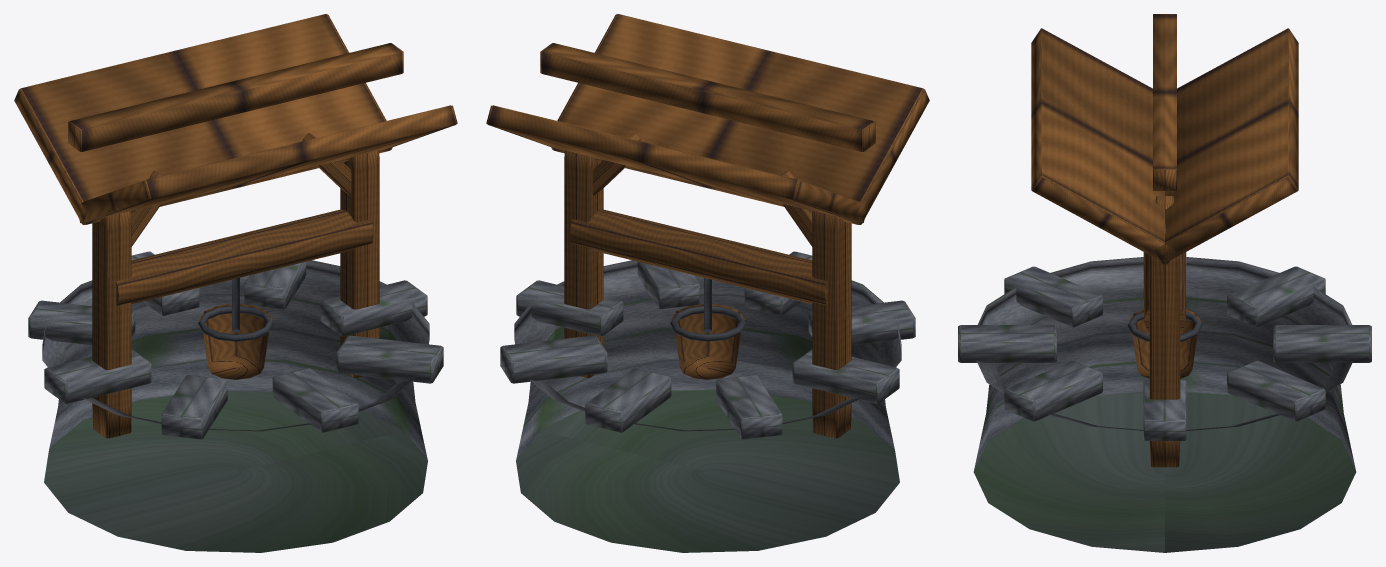
The model's file is town_well.glb.
3 views of the same model, side by side, from view 1: azimuth 30°, elevation 25°; view 2: azimuth 150°, elevation 25°; view 3: azimuth 270°, elevation 25° (orthographic).
Visible parts, largest first — view 1: TownWell; view 2: TownWell; view 3: TownWell.
Boxes of the visible parts, <box> form: TownWell: <box>14,14,457,552</box>; TownWell: <box>486,14,929,552</box>; TownWell: <box>958,14,1371,552</box>.
Bounding box in the file's own units: 51.23 × 51.99 × 51.23.
Materials: 3 (3 with a texture image).
